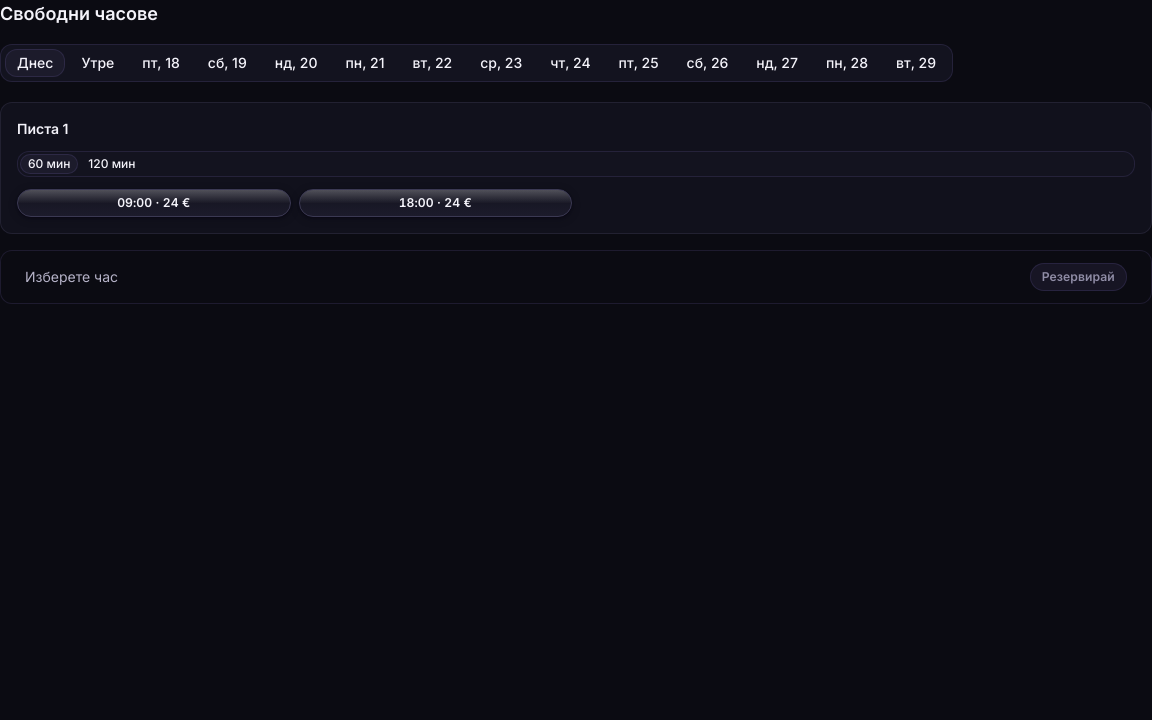
Test: the confirmation sheet › names a karting track a "Писта", not a "Корт" (P51)
The width and height of the screenshot is (1152, 720).
Click the button "09:00 · 24 €": (154, 203) [17,189,290,217]
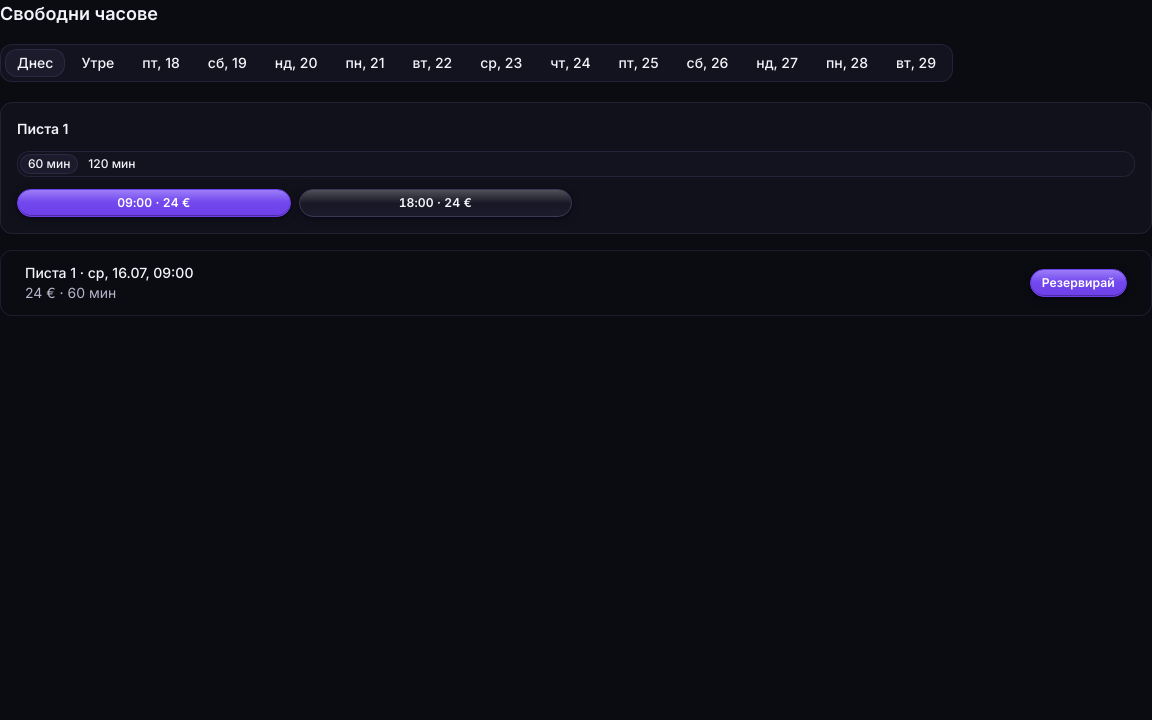
Click the button "Резервирай": (1078, 283) [1030,269,1127,297]
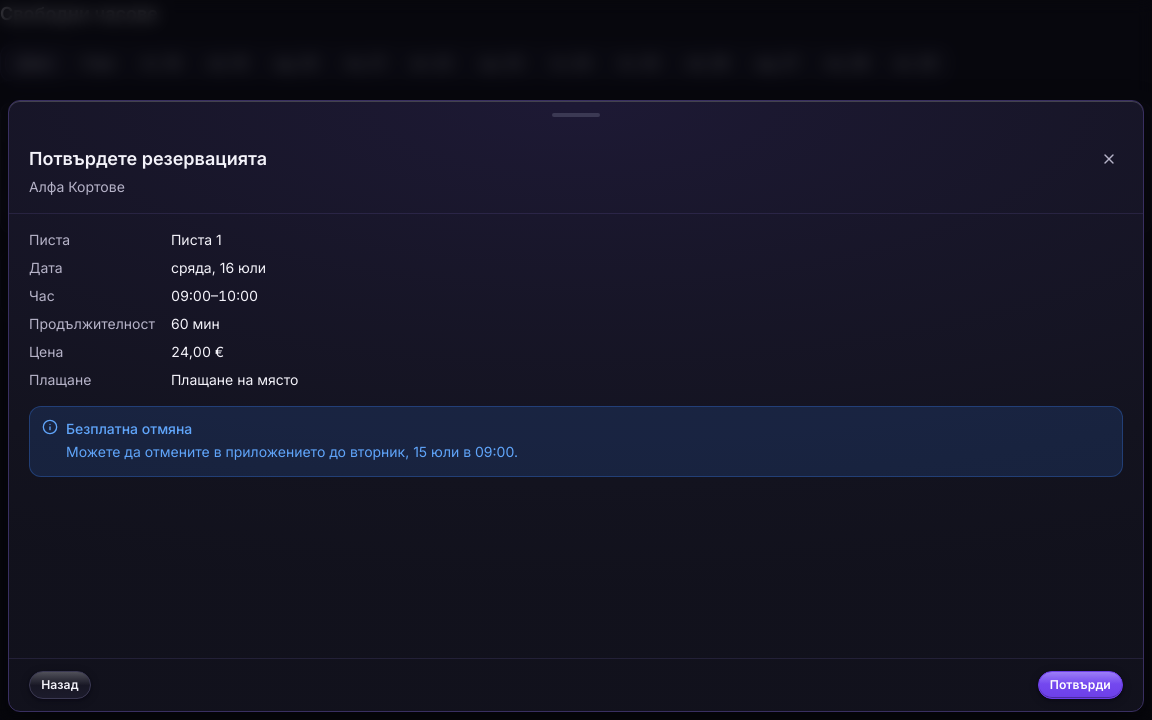
Check: the text "Писта" is shown, box [29,231,70,248]
Check: the text "Писта 1" is shown, box [171,231,222,248]
